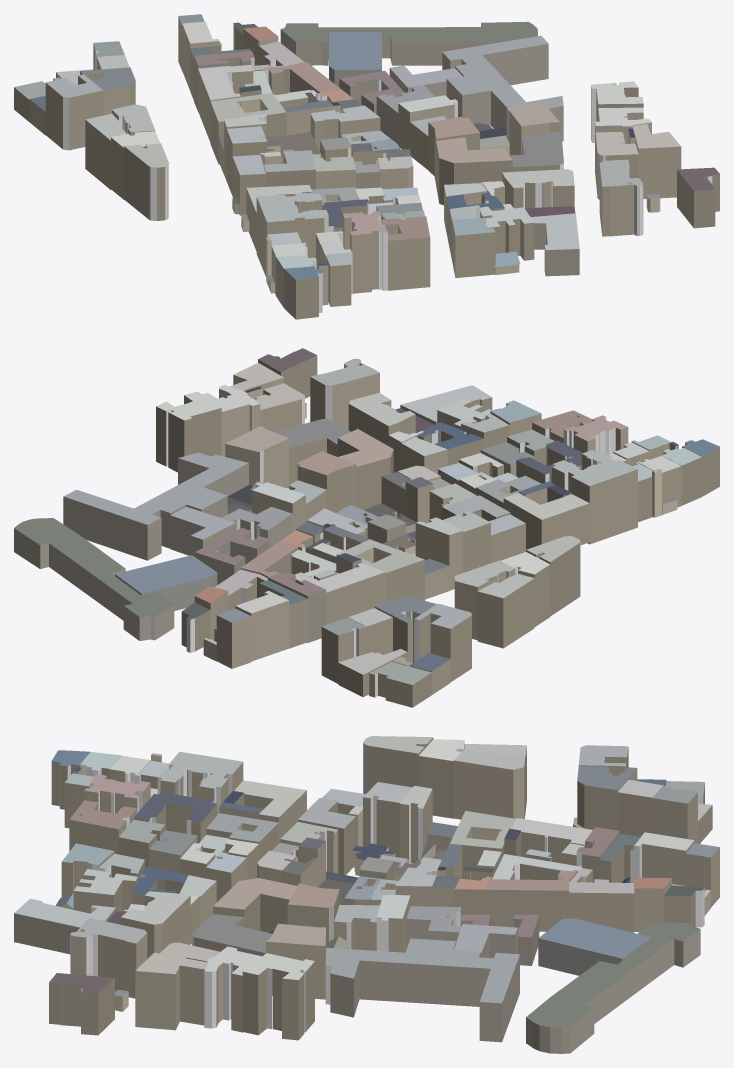
3 renders of one model, top to bottom at view 1: azimuth 30°, elevation 25°; view 2: azimuth 150°, elevation 25°; view 3: azimuth 270°, elevation 25°, orthographic. The views are drawn at different scales.
Visible parts, largest first — view 1: tuile; view 2: tuile; view 3: tuile.
Part boxes in pixels (x1,y1,x2,y2): tuile: (14, 14, 719, 319); tuile: (14, 348, 719, 707); tuile: (14, 736, 719, 1053).
Size of the model in its own units: 233 by 29.78 by 274.
